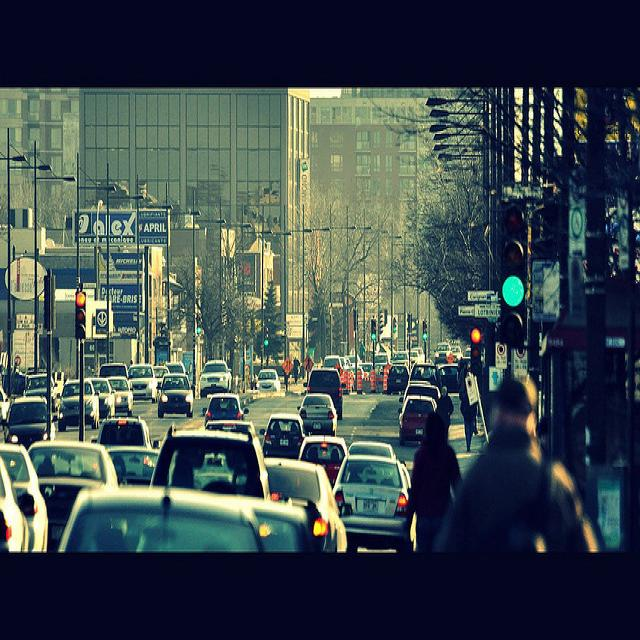Vehicle: (5, 109, 564, 638), (54, 484, 314, 559), (148, 422, 275, 505), (330, 452, 410, 558), (1, 449, 38, 550), (297, 438, 349, 490), (303, 367, 347, 420), (260, 412, 306, 460), (397, 394, 437, 446), (298, 395, 338, 438), (157, 372, 193, 418), (205, 394, 250, 426), (199, 359, 234, 398), (127, 362, 158, 403)
